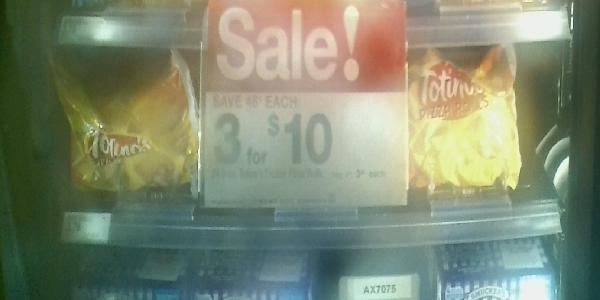icecream: (43, 40, 206, 216), (403, 46, 527, 210)
